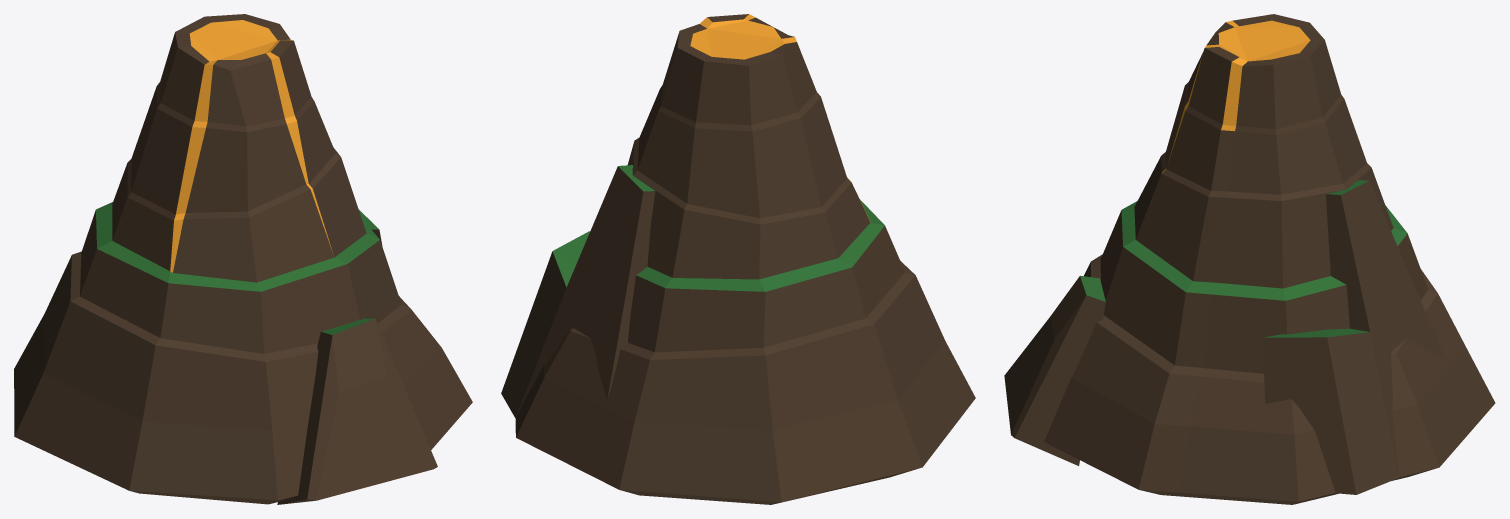
Rendered from vulcano.glb.
3 renders of one model, left to right at view 1: azimuth 30°, elevation 25°; view 2: azimuth 150°, elevation 25°; view 3: azimuth 270°, elevation 25°, orthographic.
Parts seen in each view (by area): view 1: vulcano; view 2: vulcano; view 3: vulcano.
Boxes of the visible parts, x1,y1,x2,y2 form: vulcano: (14,14,472,504); vulcano: (501,14,975,504); vulcano: (1004,14,1495,504).
Bounding box in the file's own units: 39.01 × 35.66 × 40.92.
Materials: 1 (1 with a texture image).
